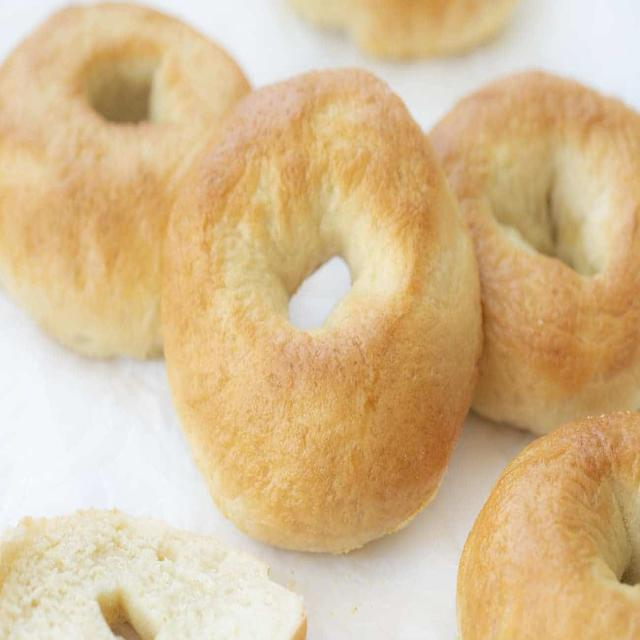Bagel: (162, 69, 481, 552), (0, 4, 250, 358), (430, 71, 640, 435), (456, 412, 640, 639), (0, 510, 306, 639)
